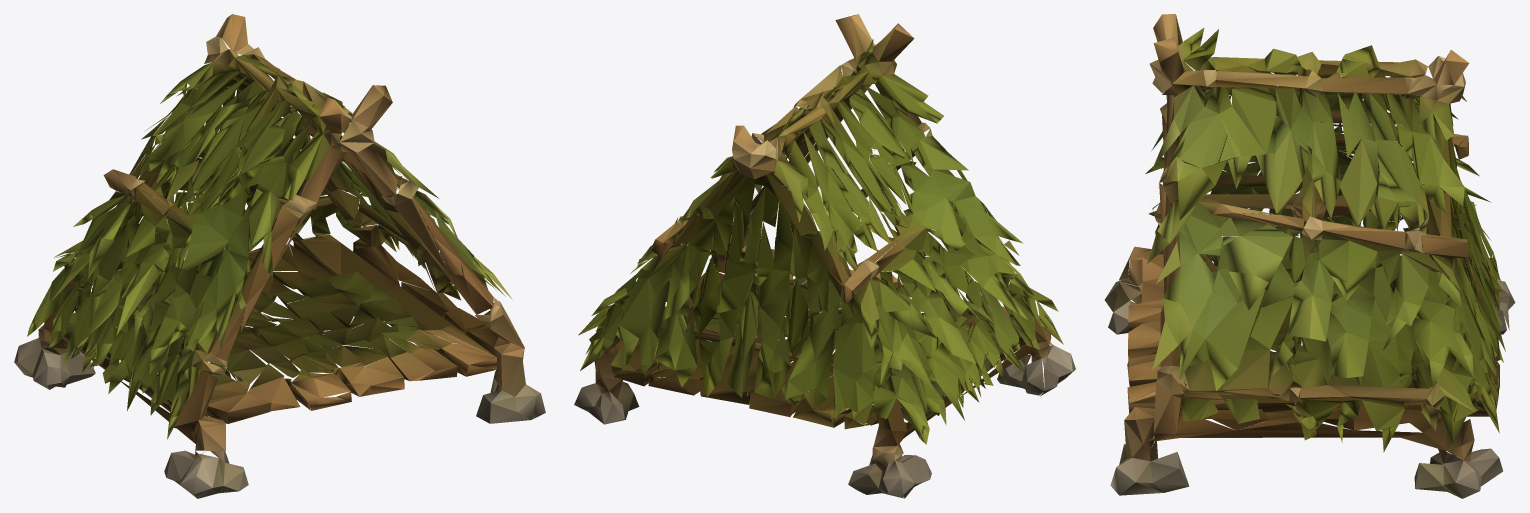
The model's file is building-shelter.glb.
3 views of the same model, side by side, from view 1: azimuth 30°, elevation 25°; view 2: azimuth 150°, elevation 25°; view 3: azimuth 270°, elevation 25° (orthographic). The views are drawn at different scales.
Parts seen in each view (by area): view 1: 0_shelter; view 2: 0_shelter; view 3: 0_shelter.
Part boxes in pixels (x1=…): 0_shelter: x1=14, y1=14, x2=545, y2=498; 0_shelter: x1=574, y1=14, x2=1075, y2=498; 0_shelter: x1=1104, y1=14, x2=1515, y2=498.
Bounding box in the file's own units: 3.84 × 3.45 × 3.37.
